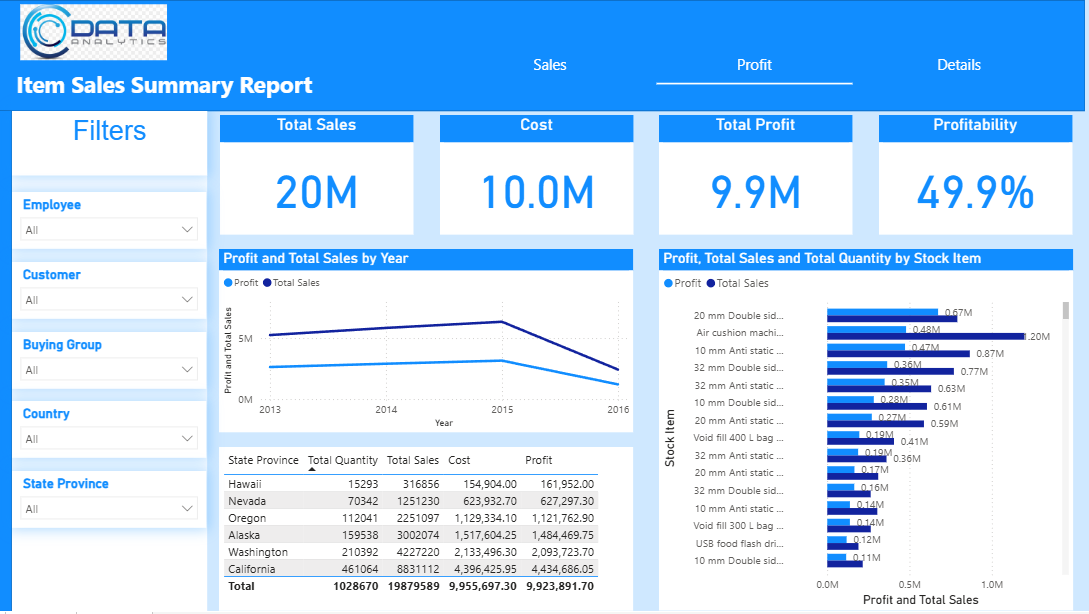

What the dashboard file says about the page in this screenshot:
{"tool":"powerbi","page":{"name":"Profit","canvas":[1280,720],"ordinal":1},"visuals":[{"type":"shape","box":[0,0,1280,131],"z":0},{"type":"shape","box":[0,129.3,15.1,591.3],"z":1000},{"type":"shape","box":[15.1,131,230.1,589.6],"z":2000},{"type":"textbox","title":"dsadsad","box":[15.1,131,230.1,75.6],"z":3000},{"type":"textbox","box":[15.1,75.6,414.9,53.8],"z":4000},{"type":"image","box":[0,0,223.4,75.6],"z":5000},{"type":"card","title":"Total Sales","fields":{"Values":["Sum(FactSale.Total Excluding Tax)"]},"box":[260.6,135.4,227.5,141.1],"z":6000},{"type":"card","title":"Cost","fields":{"Values":["FactSale.Cost"]},"box":[519.4,135.4,227.5,141.1],"z":7000},{"type":"card","title":"Total Profit","fields":{"Values":["Sum(FactSale.Profit)"]},"box":[778.1,135.4,227.5,141.1],"z":8000},{"type":"card","title":"Profitability","fields":{"Values":["FactSale.Profitability"]},"box":[1036.8,135.4,227.5,141.1],"z":9000},{"type":"lineChart","fields":{"Category":["DimDate.Date.Variation.Date Hierarchy.Year","DimDate.Date.Variation.Date Hierarchy.Quarter","DimDate.Date.Variation.Date Hierarchy.Month","DimDate.Date.Variation.Date Hierarchy.Day"],"Y":["Sum(FactSale.Profit)","Sum(FactSale.Total Excluding Tax)"]},"box":[259.2,293.8,488.2,216],"z":10000},{"type":"clusteredBarChart","fields":{"Y":["Sum(FactSale.Profit)","Sum(FactSale.Total Excluding Tax)"],"Category":["DimStockItem.Stock Item"]},"box":[777.6,293.8,488.2,426.2],"z":11000},{"type":"tableEx","fields":{"Values":["DimCity.State Province","Sum(FactSale.Quantity)","Sum(FactSale.Total Excluding Tax)","FactSale.Cost","Sum(FactSale.Profit)"]},"box":[259.2,527,488.2,193],"z":12000},{"type":"slicer","fields":{"Values":["DimEmployee.Employee"]},"box":[15.5,226,229.4,67.3],"z":13000},{"type":"slicer","fields":{"Values":["DimCustomer.Customer"]},"box":[15.5,308.4,229.4,67.3],"z":14000},{"type":"slicer","fields":{"Values":["DimCustomer.Buying Group"]},"box":[15.5,390.7,229.4,67.3],"z":15000},{"type":"slicer","fields":{"Values":["DimCity.Country"]},"box":[15.5,473.1,229.4,67.3],"z":16000},{"type":"slicer","fields":{"Values":["DimCity.State Province"]},"box":[15.5,555.5,229.4,67.3],"z":17000},{"type":"pageNavigator","box":[534.2,49,714.2,50.4],"z":18000}]}

Visuals, with their boxes in screenshot pixels (x1, y1, x2, y2), scaled from the page's 1280x720 canvas onto the 1089x614 screenshot:
shape: bbox=[0, 0, 1088, 112]
shape: bbox=[0, 110, 13, 613]
shape: bbox=[13, 112, 209, 613]
"dsadsad" textbox: bbox=[13, 112, 209, 176]
textbox: bbox=[13, 64, 366, 110]
image: bbox=[0, 0, 190, 64]
"Total Sales" card: bbox=[222, 115, 415, 236]
"Cost" card: bbox=[442, 115, 635, 236]
"Total Profit" card: bbox=[662, 115, 856, 236]
"Profitability" card: bbox=[882, 115, 1076, 236]
lineChart - DimDate.Date.Variation.Date Hierarchy.Year x DimDate.Date.Variation.Date Hierarchy.Quarter: bbox=[221, 251, 636, 435]
clusteredBarChart - Sum(FactSale.Profit) x Sum(FactSale.Total Excluding Tax): bbox=[662, 251, 1077, 613]
tableEx - DimCity.State Province x Sum(FactSale.Quantity): bbox=[221, 449, 636, 613]
slicer - DimEmployee.Employee: bbox=[13, 193, 208, 250]
slicer - DimCustomer.Customer: bbox=[13, 263, 208, 320]
slicer - DimCustomer.Buying Group: bbox=[13, 333, 208, 391]
slicer - DimCity.Country: bbox=[13, 403, 208, 461]
slicer - DimCity.State Province: bbox=[13, 474, 208, 531]
pageNavigator: bbox=[454, 42, 1062, 85]
